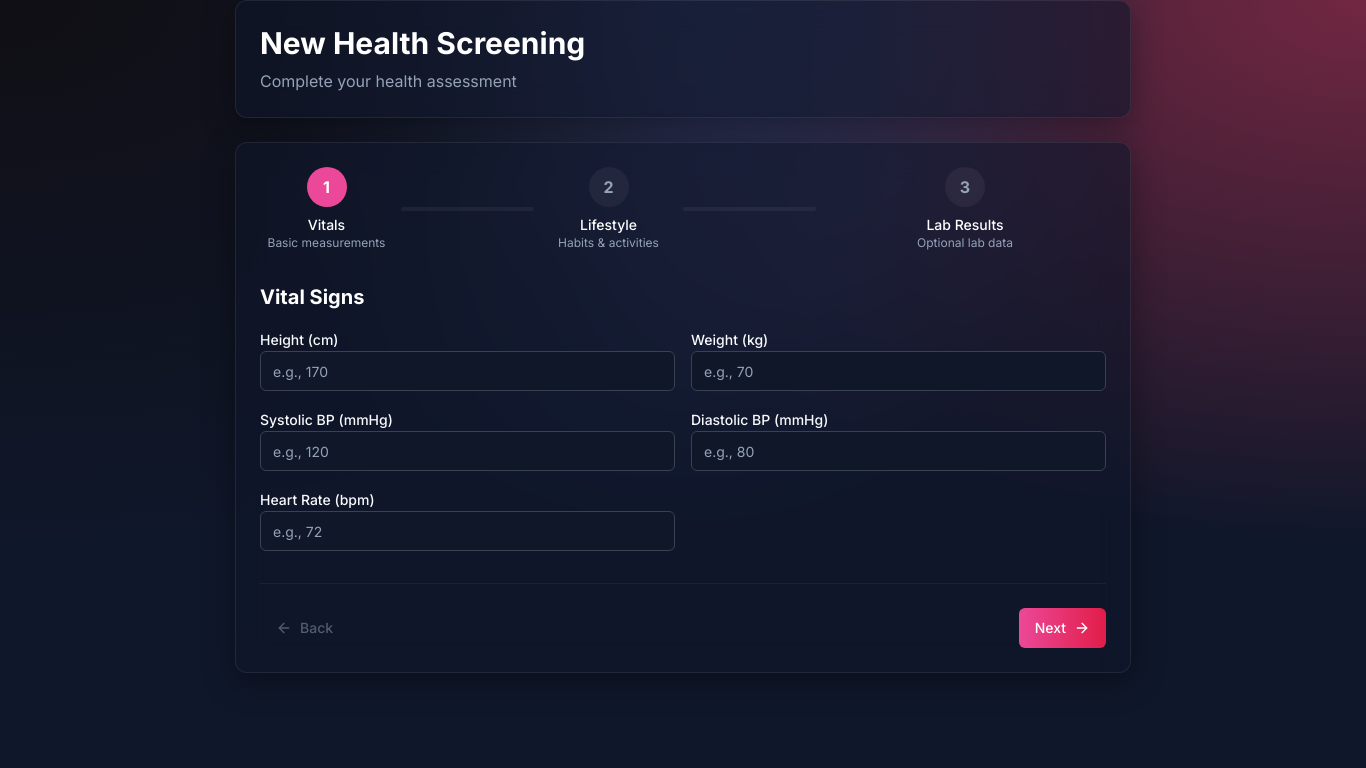
it: PatientSelfScreening › navigates between steps when Next and Back are clicked
Click the button "Next": (1062, 628) [1019,608,1106,648]
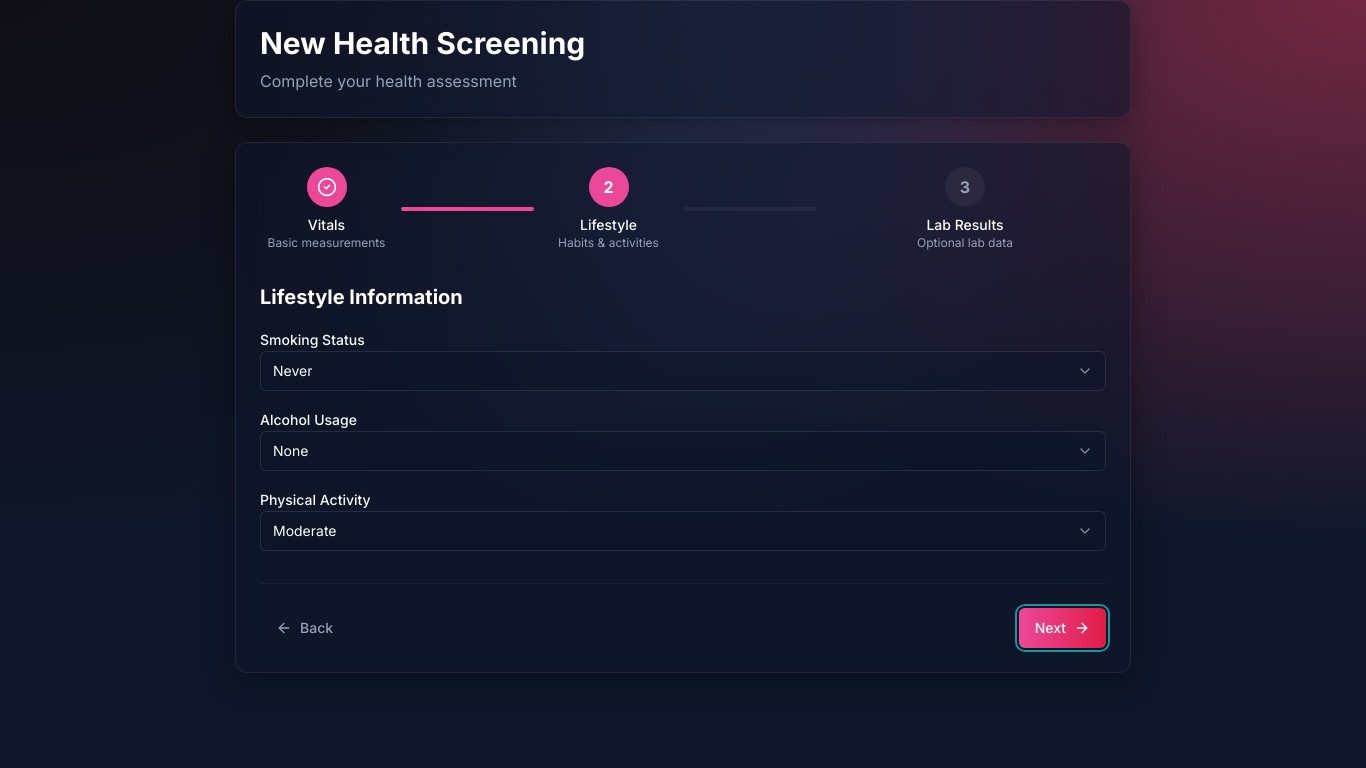
expect the text "Smoking Status" is shown: met, box [260,331,365,348]
Click the button "Back": (305, 628) [260,608,349,648]
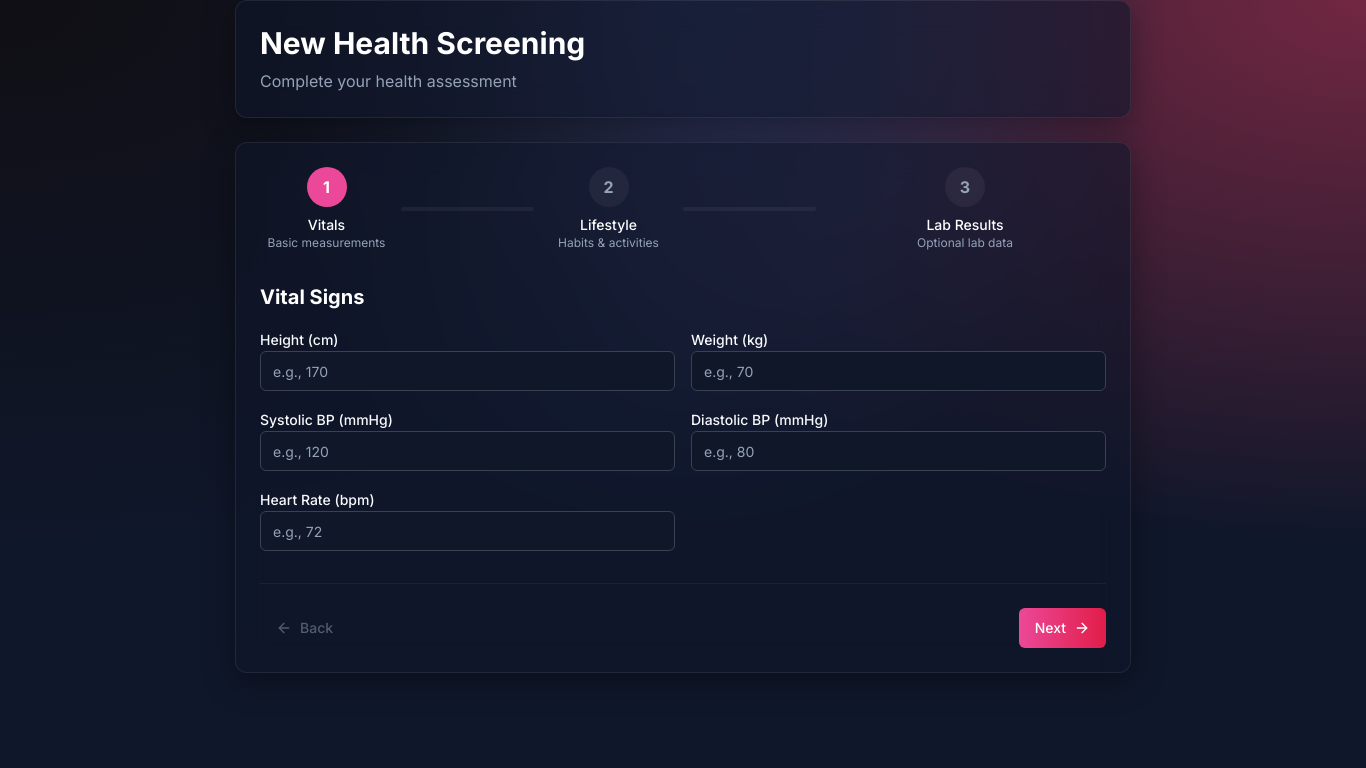
expect the heading "Vital Signs" is shown: met, box [260,285,364,309]
